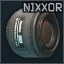NIXXOR lens: (0, 0, 64, 64)
